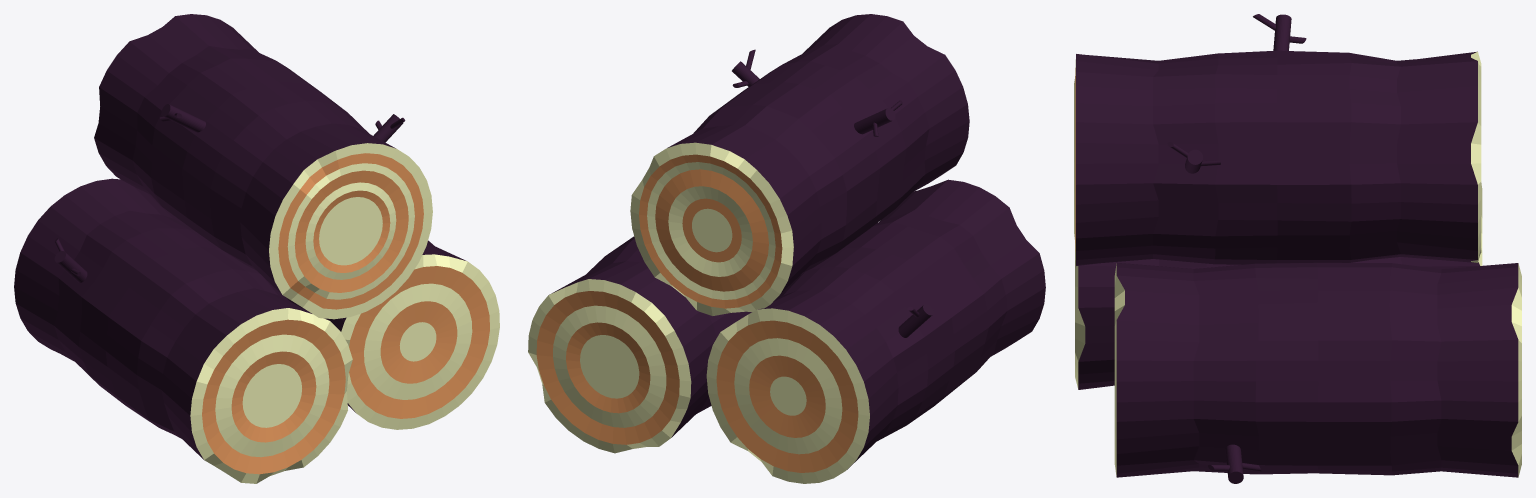
File: lumber.glb
3 renders of one model, left to right at view 1: azimuth 30°, elevation 25°; view 2: azimuth 150°, elevation 25°; view 3: azimuth 270°, elevation 25°, orthographic. The views are drawn at different scales.
Visible parts, largest first — view 1: Cylinder; view 2: Cylinder; view 3: Cylinder.
Part boxes in pixels (<box>): Cylinder: <box>14,14,499,483</box>; Cylinder: <box>528,14,1045,483</box>; Cylinder: <box>1074,14,1521,483</box>.
Size of the model in its own units: 4.39 by 3.71 by 4.15.
